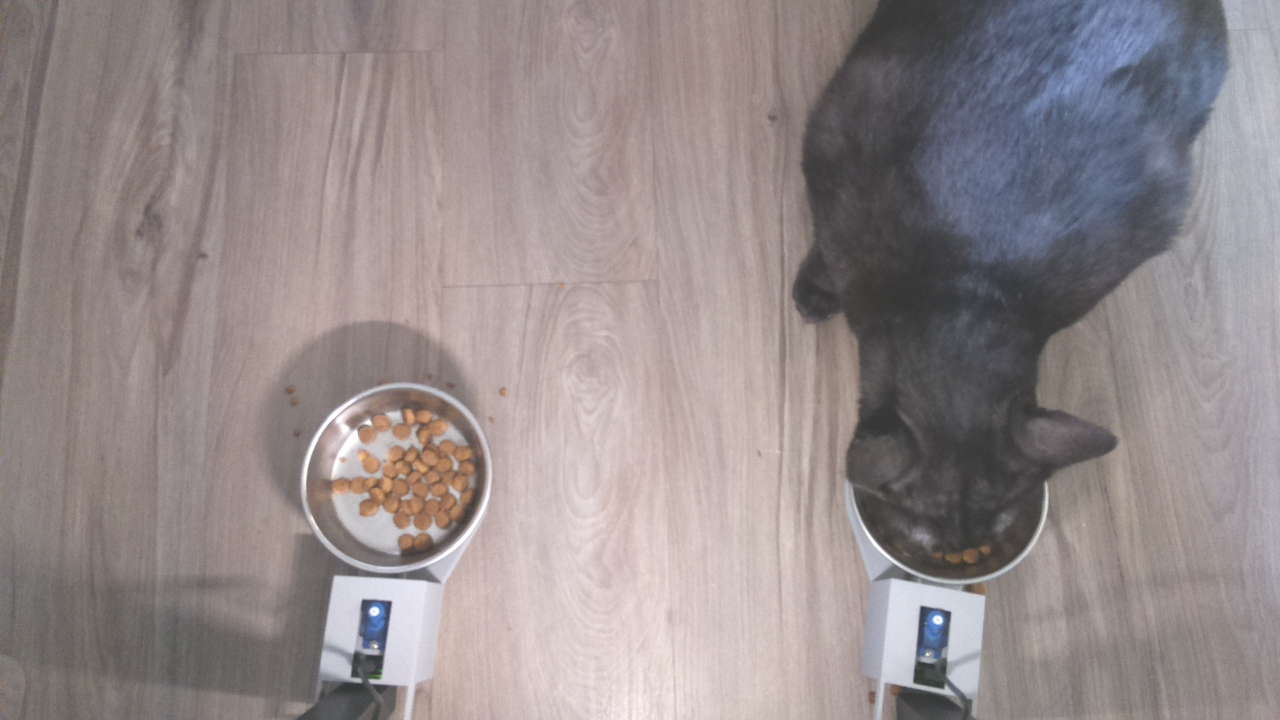open_bowl: (295, 378, 505, 590)
saki_eating: (834, 344, 1121, 570)
